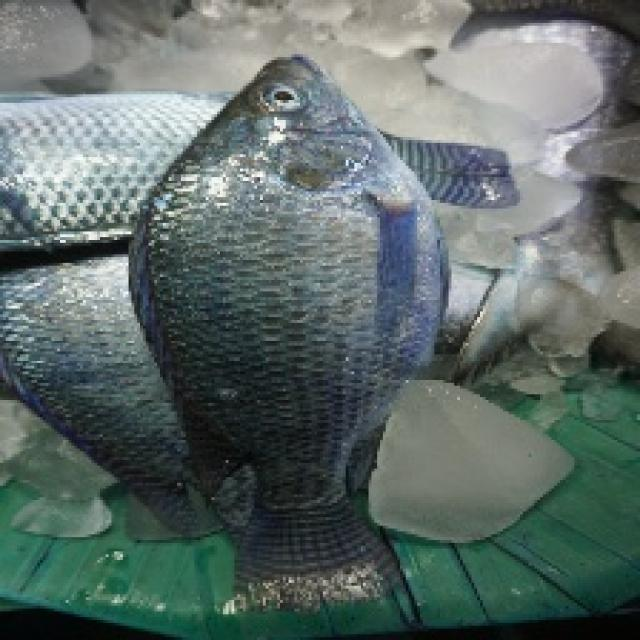Fresh: (130, 45, 462, 478)
